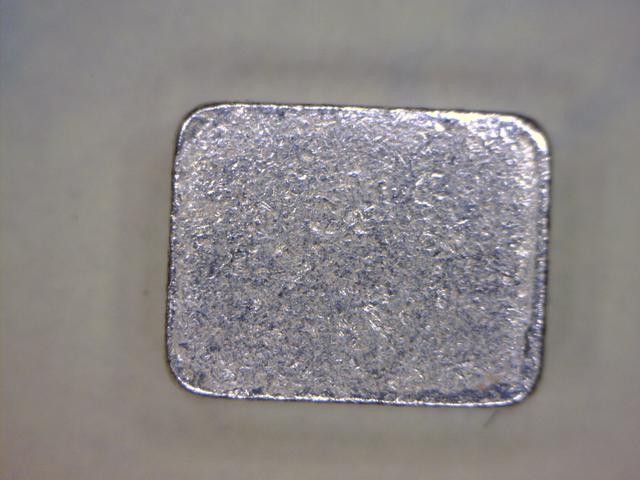ok: (155, 89, 550, 419)
